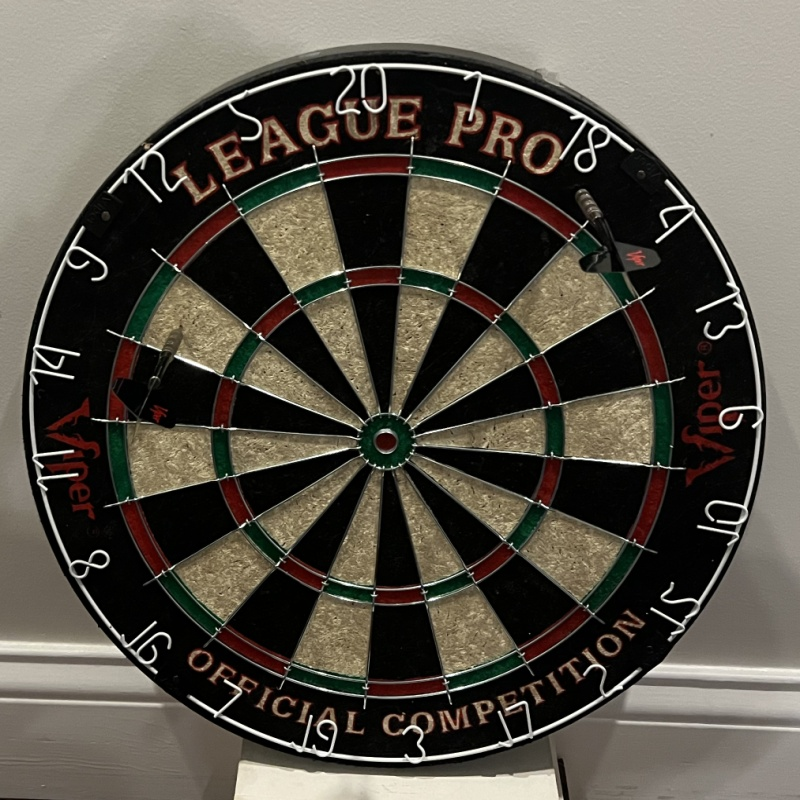dart: (166, 324, 188, 351), (569, 183, 591, 208)
eleven: (32, 448, 80, 492)
six: (718, 403, 765, 430)
three: (398, 723, 426, 763)
twenty: (328, 62, 389, 115)
